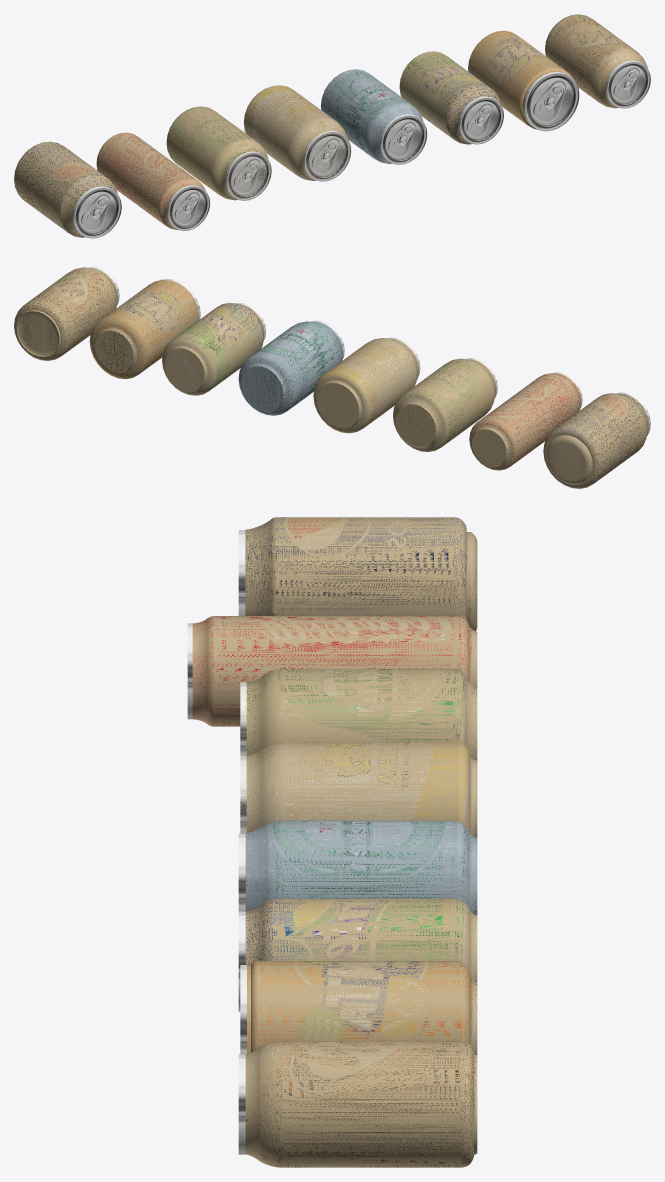
Rendered from sodas.fbx.
The picture shows the model from 3 angles, top to bottom: view 1: azimuth 30°, elevation 25°; view 2: azimuth 150°, elevation 25°; view 3: azimuth 270°, elevation 25°; orthographic projection. The views are drawn at different scales.
Parts seen in each view (by area): view 1: Material2 (×2), Material3 (×10); view 2: Material2 (×2), Material3 (×9); view 3: Material2 (×2), Material3 (×9).
Boxes of the visible parts, box(x1,y1,x2,y2) form: Material2 (×2): box(14, 14, 650, 238); Material3 (×10): box(14, 14, 646, 237); Material2 (×2): box(14, 267, 650, 488); Material3 (×9): box(14, 268, 648, 488); Material2 (×2): box(187, 517, 477, 1167); Material3 (×9): box(192, 517, 477, 1167).
Size of the model in its own units: 14 by 1.42 by 3.
Materials: 12 (11 with a texture image).
